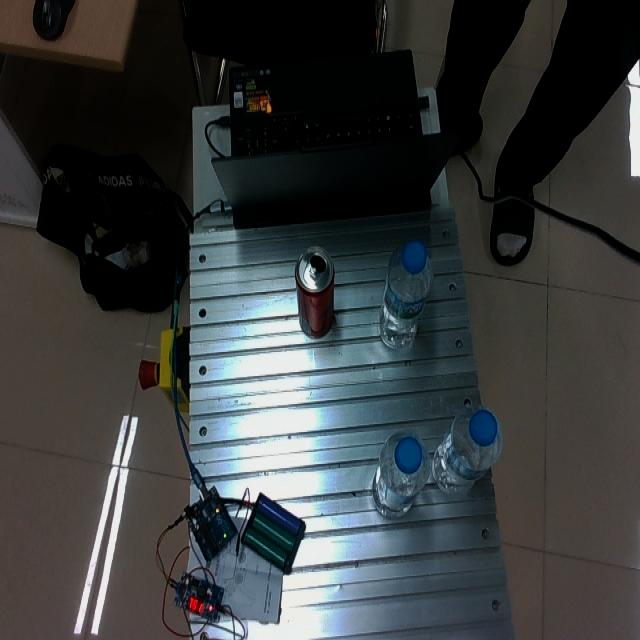coca: (294, 244, 335, 339)
lavie: (430, 404, 502, 493), (377, 239, 432, 349), (371, 431, 429, 518)
